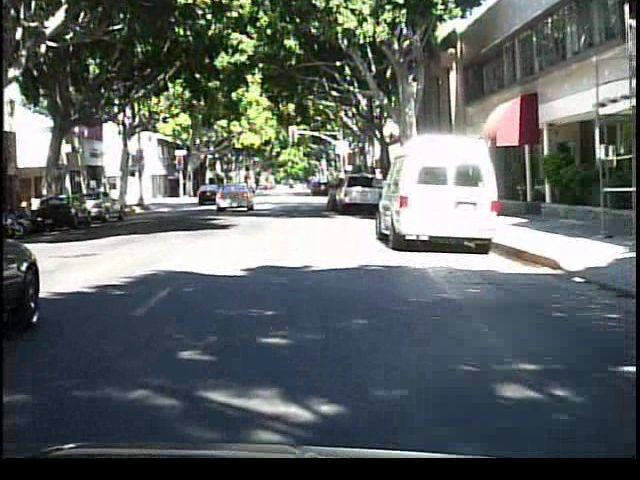person: (236, 175, 257, 208)
